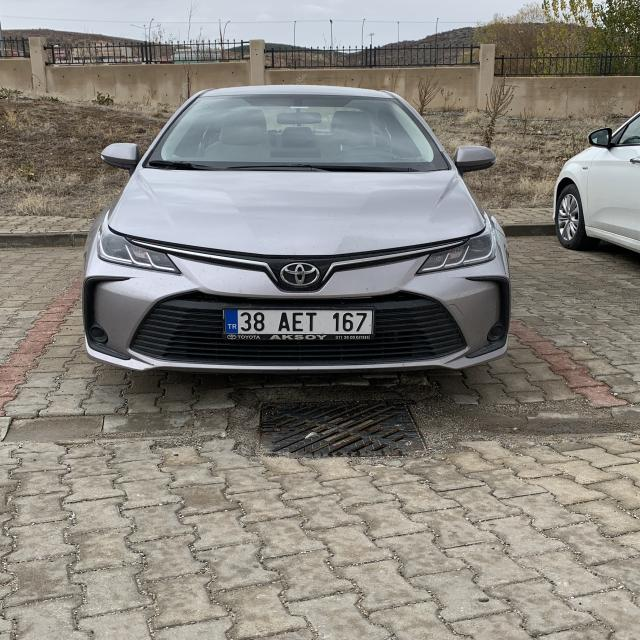license_plate: (224, 309, 372, 335)
